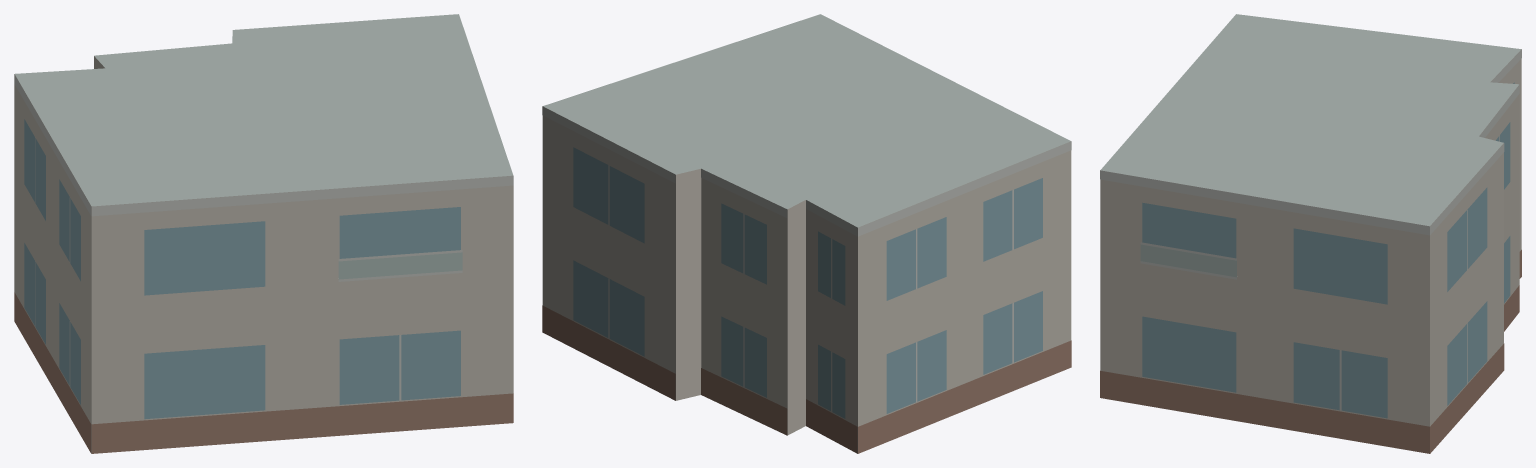
Rendered from survey-upis-32874278.glb.
3 views of the same model, side by side, from view 1: azimuth 30°, elevation 25°; view 2: azimuth 150°, elevation 25°; view 3: azimuth 270°, elevation 25° (orthographic). The views are drawn at different scales.
Visible parts, largest first — view 1: survey-upis-32874278.tmp; view 2: survey-upis-32874278.tmp; view 3: survey-upis-32874278.tmp.
Boxes of the visible parts, x1=… form: survey-upis-32874278.tmp: x1=14, y1=14, x2=513, y2=453; survey-upis-32874278.tmp: x1=542, y1=14, x2=1071, y2=453; survey-upis-32874278.tmp: x1=1100, y1=14, x2=1521, y2=453.
Bounding box in the file's own units: 12.21 × 6.1 × 10.25.
